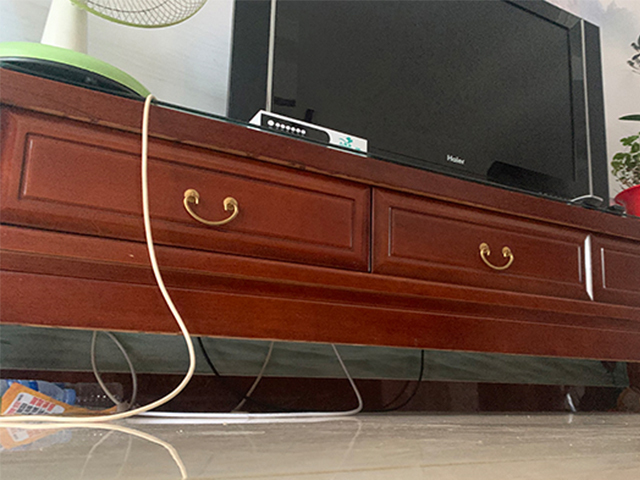cabinet: (1, 66, 640, 395)
wire: (1, 337, 441, 425)
